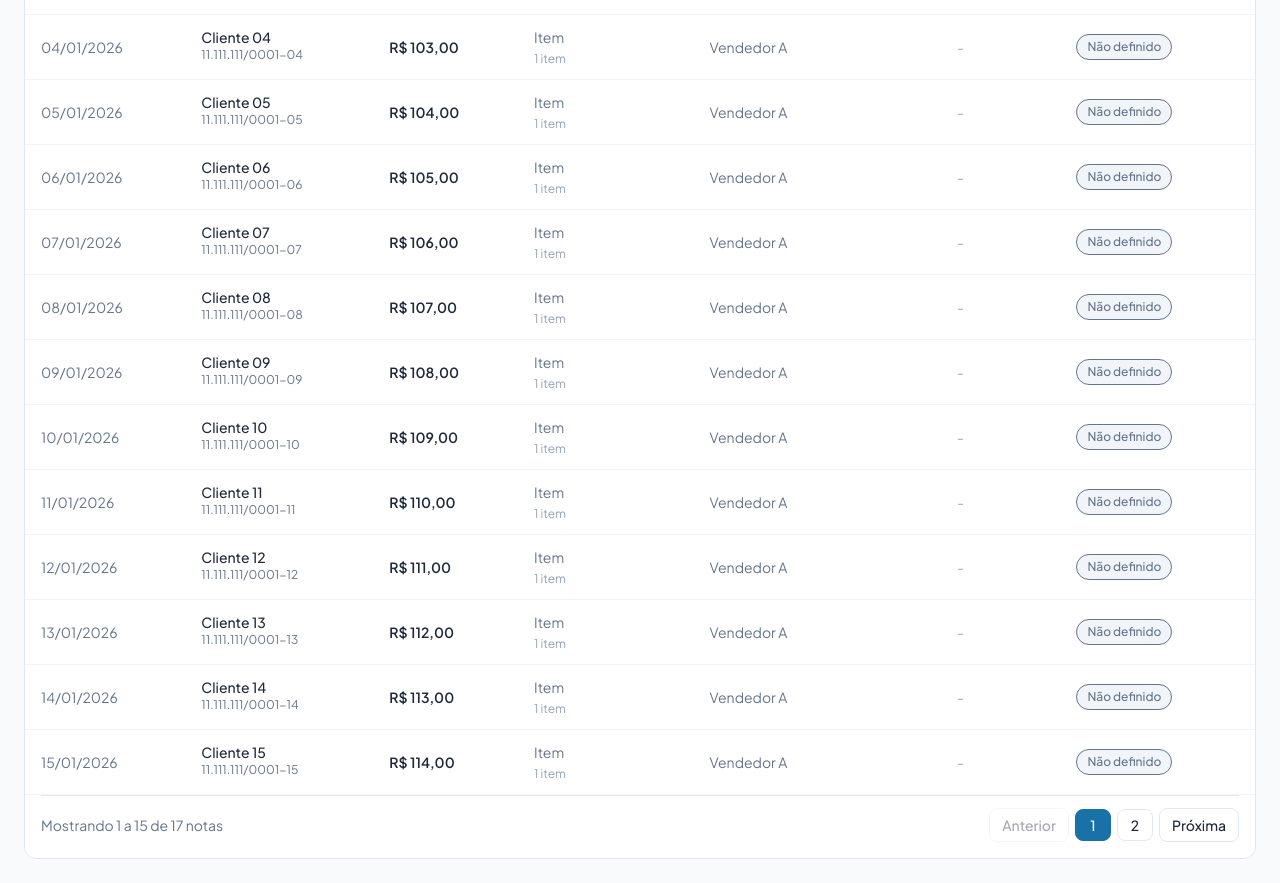
Test: paginacao em Vendedores › Anterior volta para a primeira
(page scrolled)
Click the button "Próxima": (1199, 825) [1159, 808, 1239, 842]
(page scrolled)
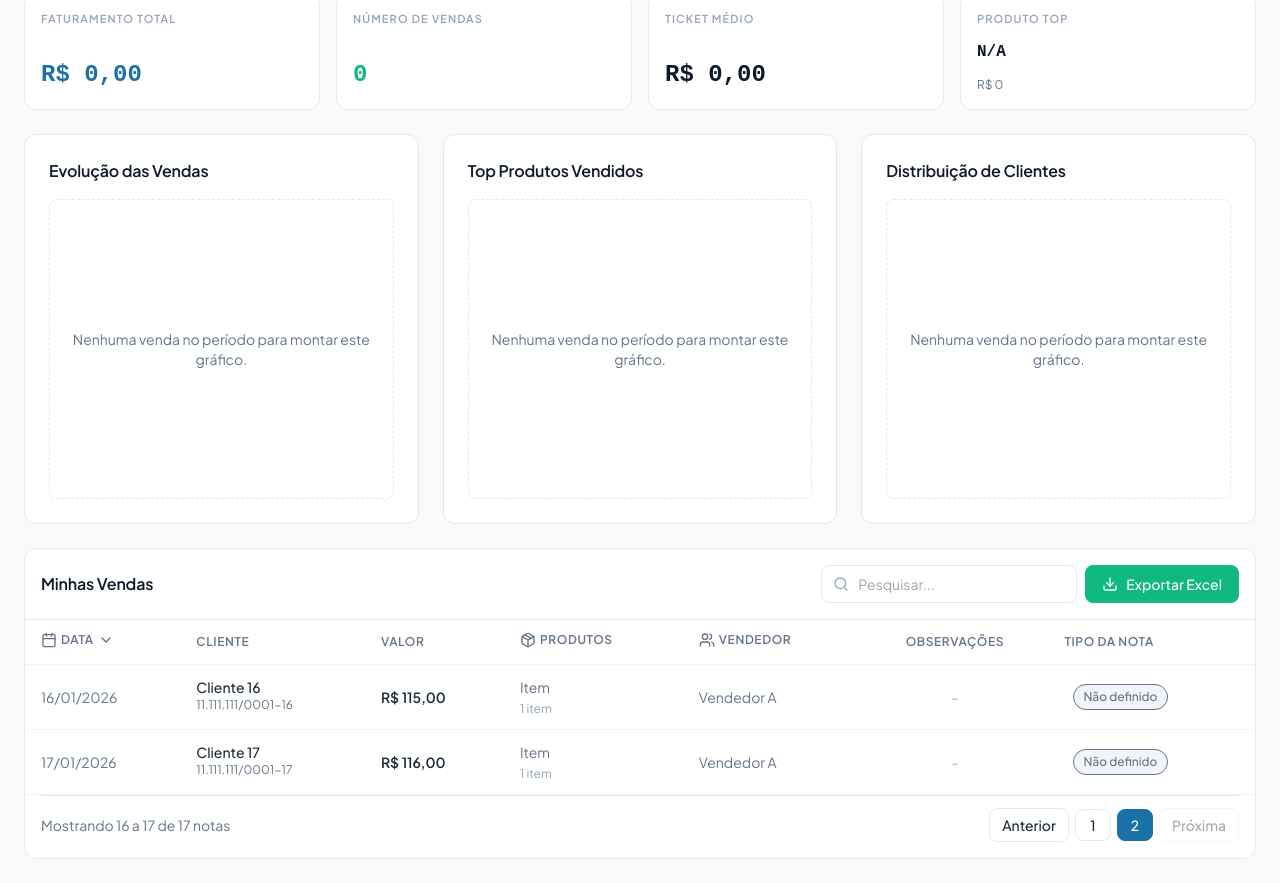
Click the button "Anterior": (1029, 825) [989, 808, 1069, 842]
(page scrolled)
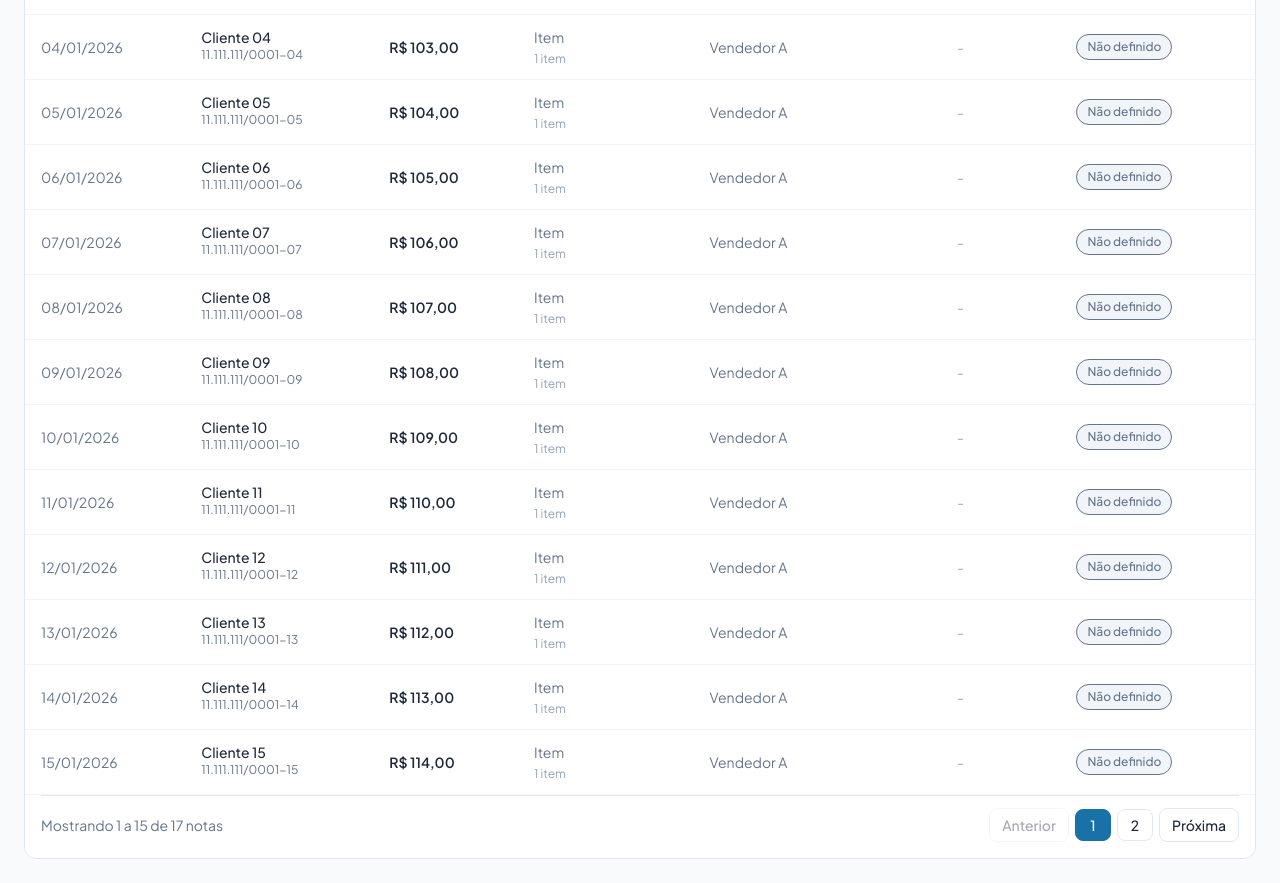
expect the text "Mostrando 1 a 15 de 17 notas" is shown: met, box [41, 815, 223, 835]
